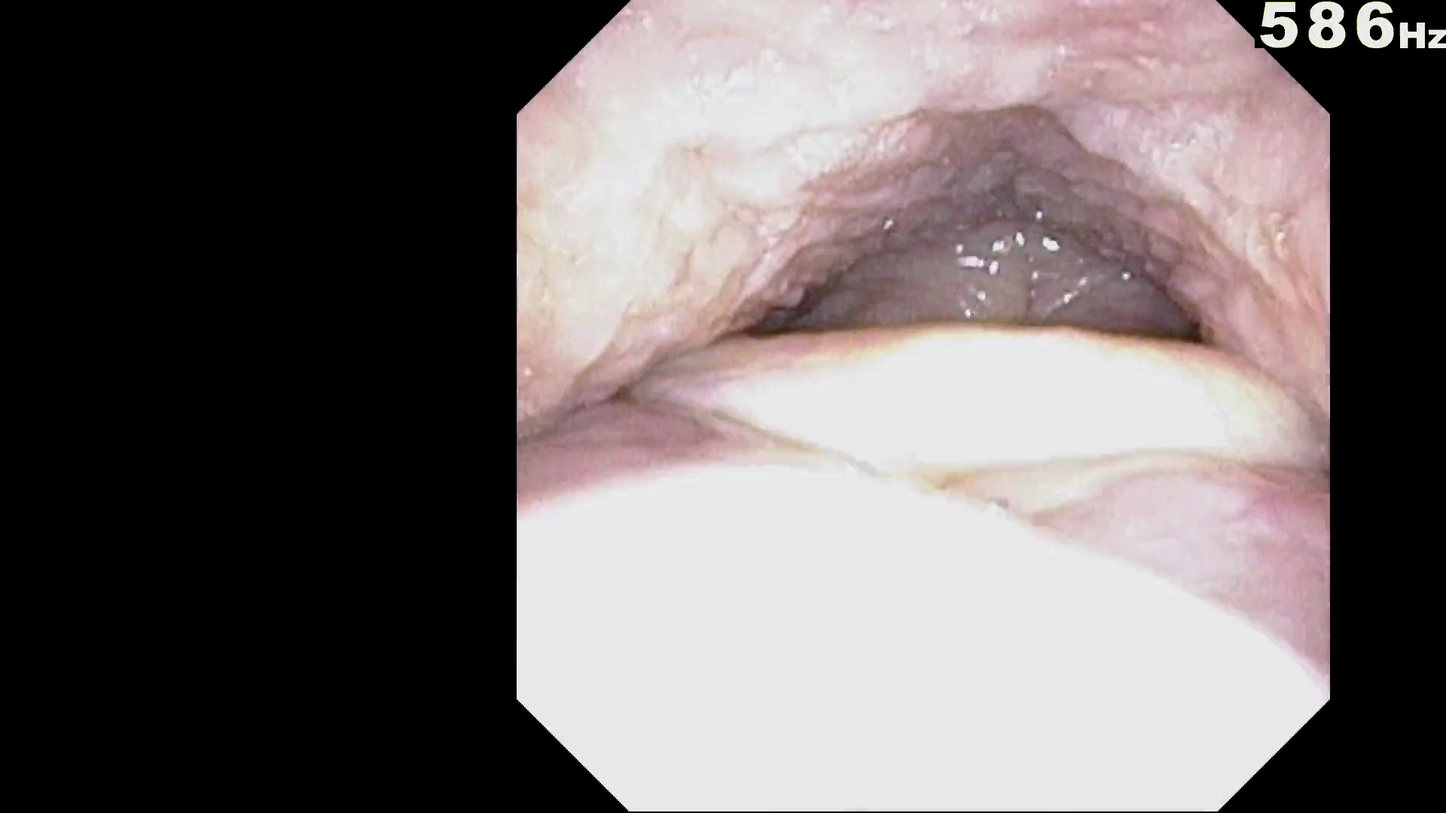epiglottis: (641, 252, 1293, 560)
